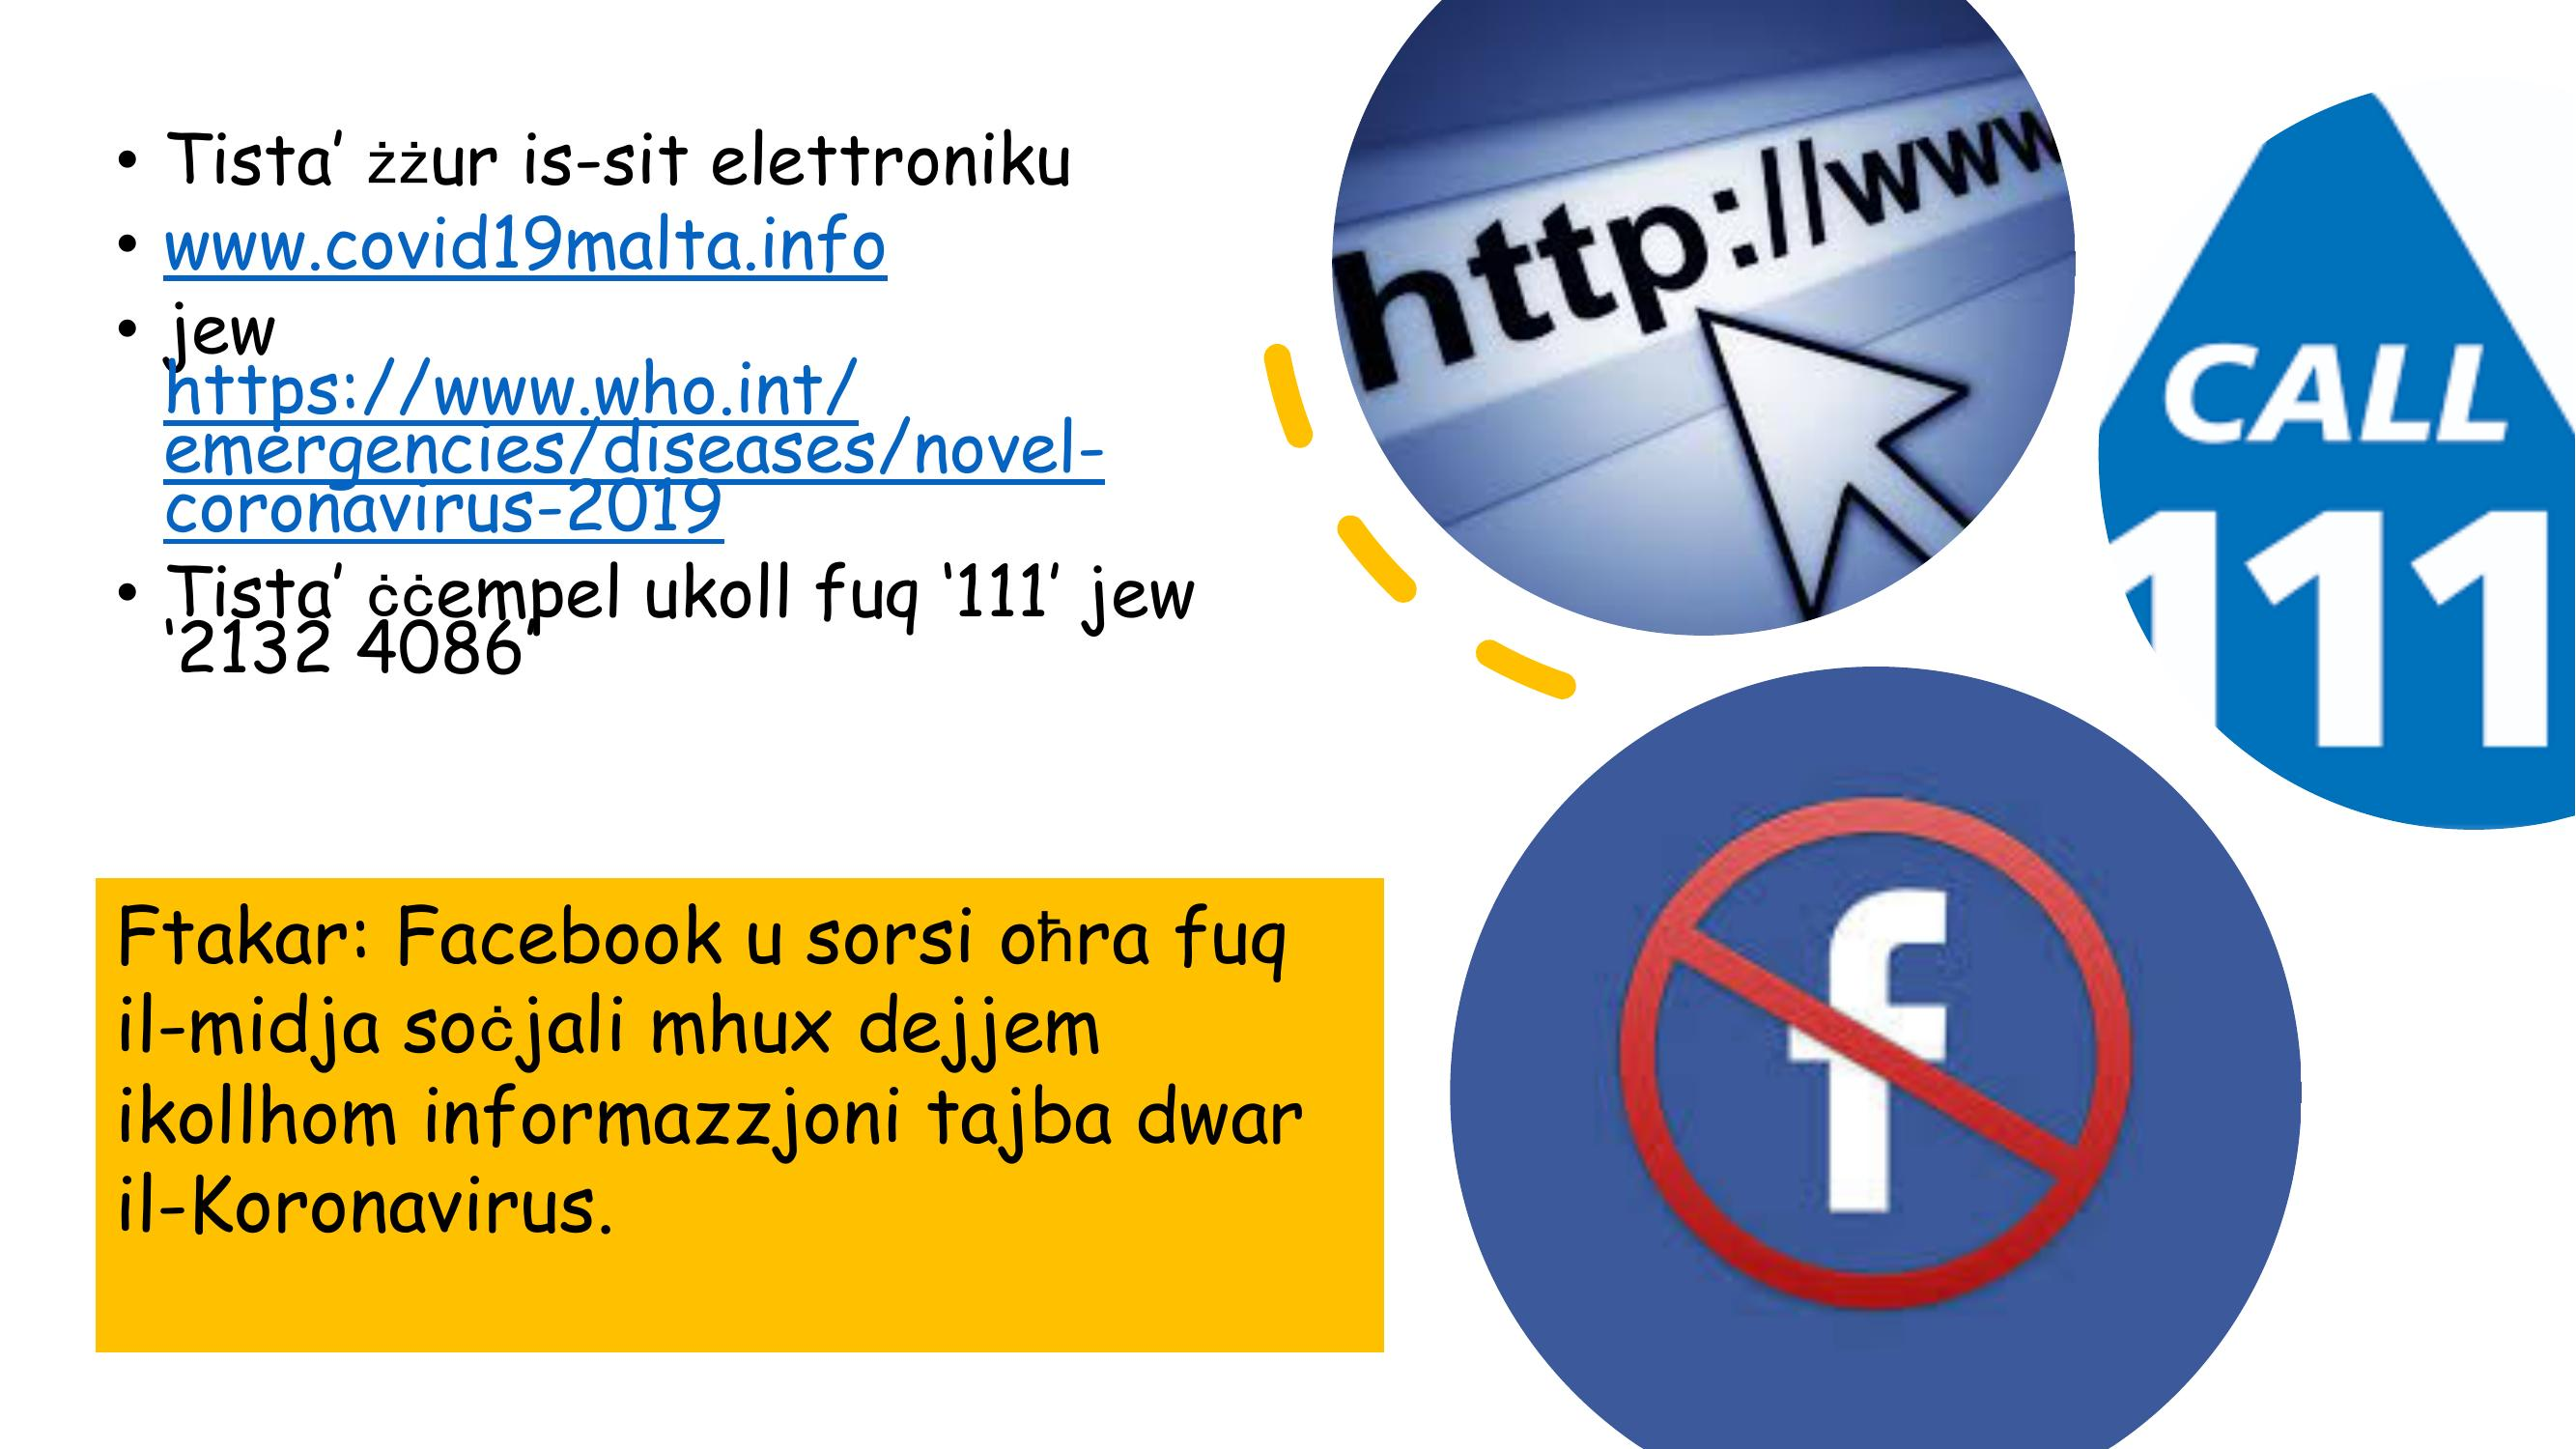text: (78, 87, 1240, 702), (106, 886, 1338, 1261)
